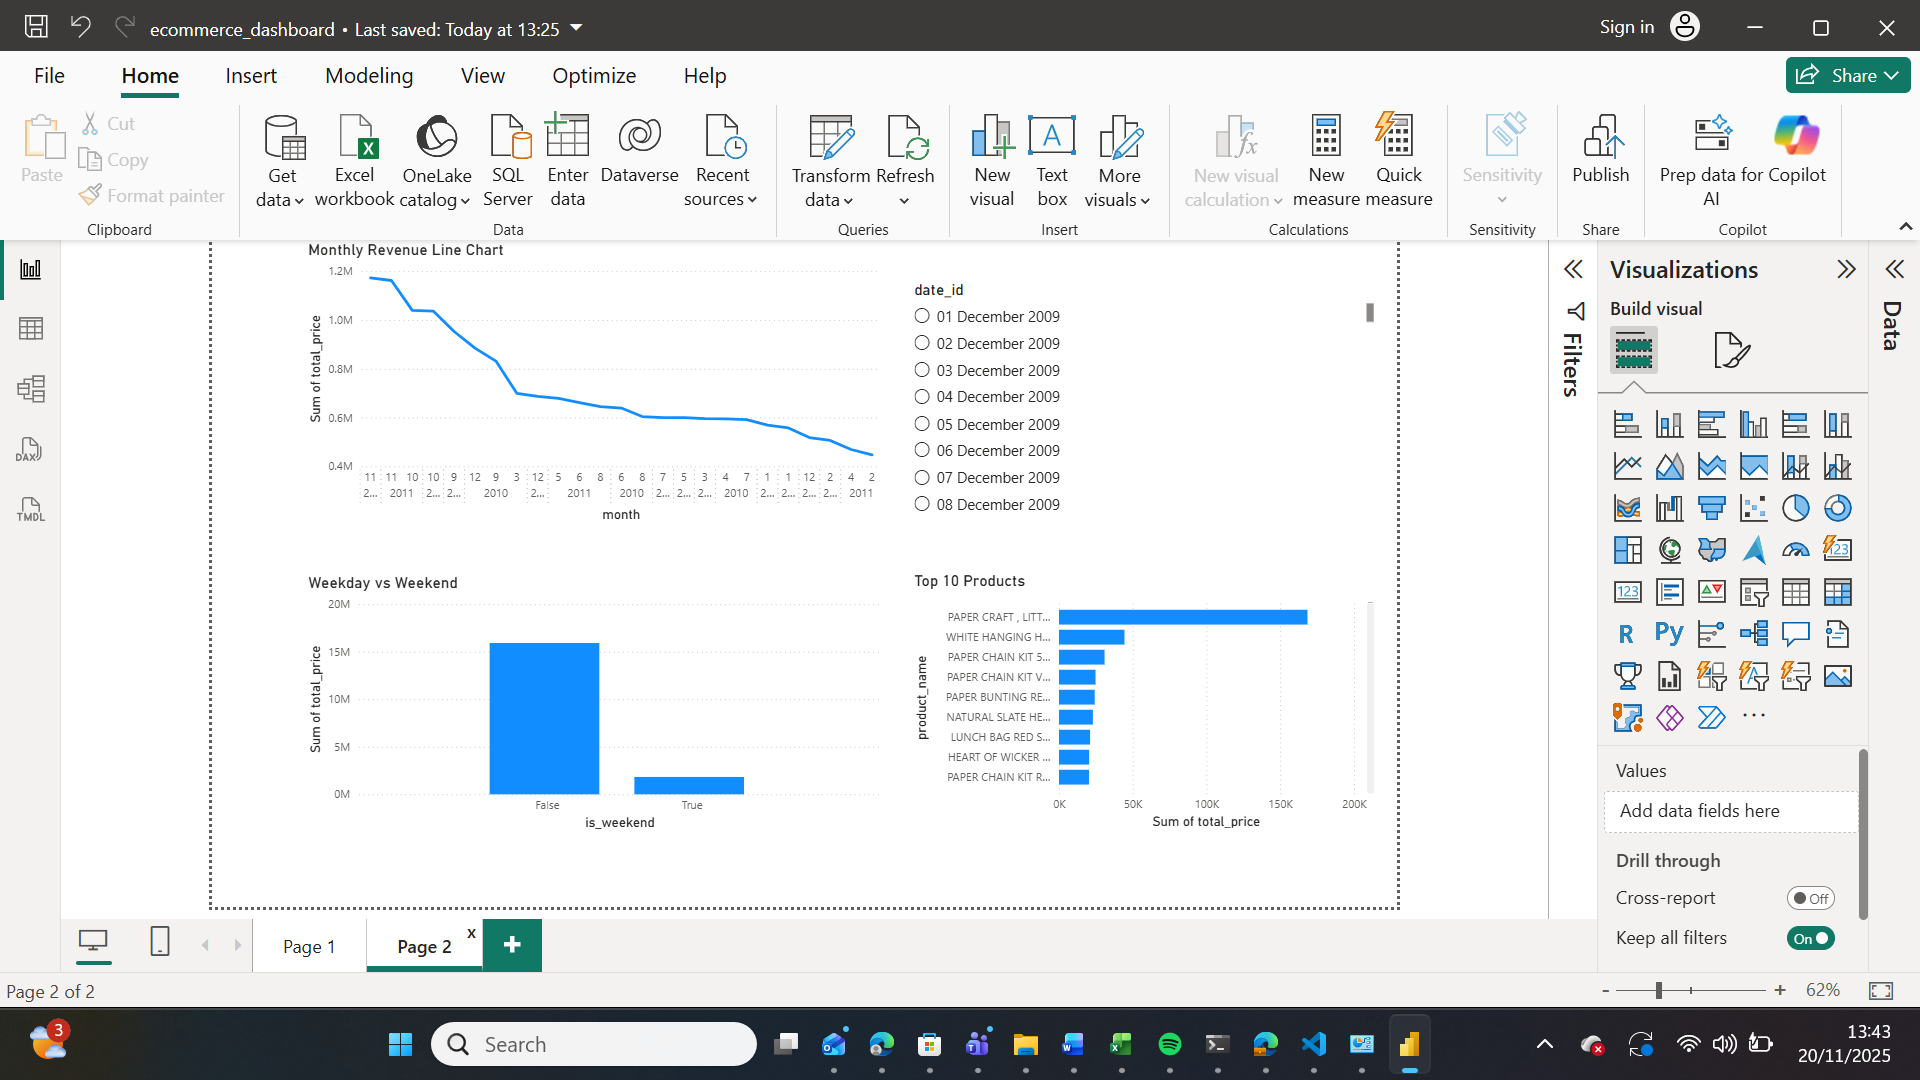

This screenshot's page, from the dashboard's own definition file:
{"tool":"powerbi","page":{"name":"Page 2","canvas":[1280,720],"ordinal":1},"visuals":[{"type":"lineChart","title":"Monthly Revenue Line Chart","fields":{"Category":["public dim_date.year","public dim_date.month"],"Y":["Sum(public fact_sales.total_price)"]},"box":[98.3,0,627.4,308],"z":0},{"type":"clusteredColumnChart","title":"Weekday vs Weekend","fields":{"Category":["public dim_date.is_weekend"],"Y":["Sum(public fact_sales.total_price)"]},"box":[98.3,359.1,627.4,281.6],"z":1000},{"type":"listSlicer","fields":{"Values":["public fact_sales.date_id"]},"box":[752.1,43.5,506.5,264.6],"z":2000},{"type":"barChart","title":"Top 10 Products","fields":{"Y":["Sum(public fact_sales.total_price)"],"Category":["public dim_products.product_name"]},"box":[752.1,357.2,506.5,281.6],"z":3000}]}

Visuals, with their boxes on the page's 1280x720 design canvas (x1, y1, x2, y2). These are canvas units, not pixel positions in the 1920x1080 screenshot, which may show the page scaled, cropped or inside an application window:
"Monthly Revenue Line Chart" lineChart: rect(98, 0, 726, 308)
"Weekday vs Weekend" clusteredColumnChart: rect(98, 359, 726, 641)
listSlicer - public fact_sales.date_id: rect(752, 44, 1259, 308)
"Top 10 Products" barChart: rect(752, 357, 1259, 639)
